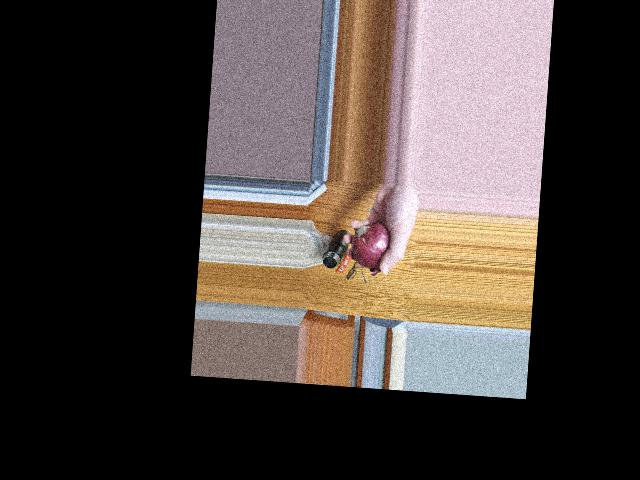onion: (356, 224, 396, 265)
